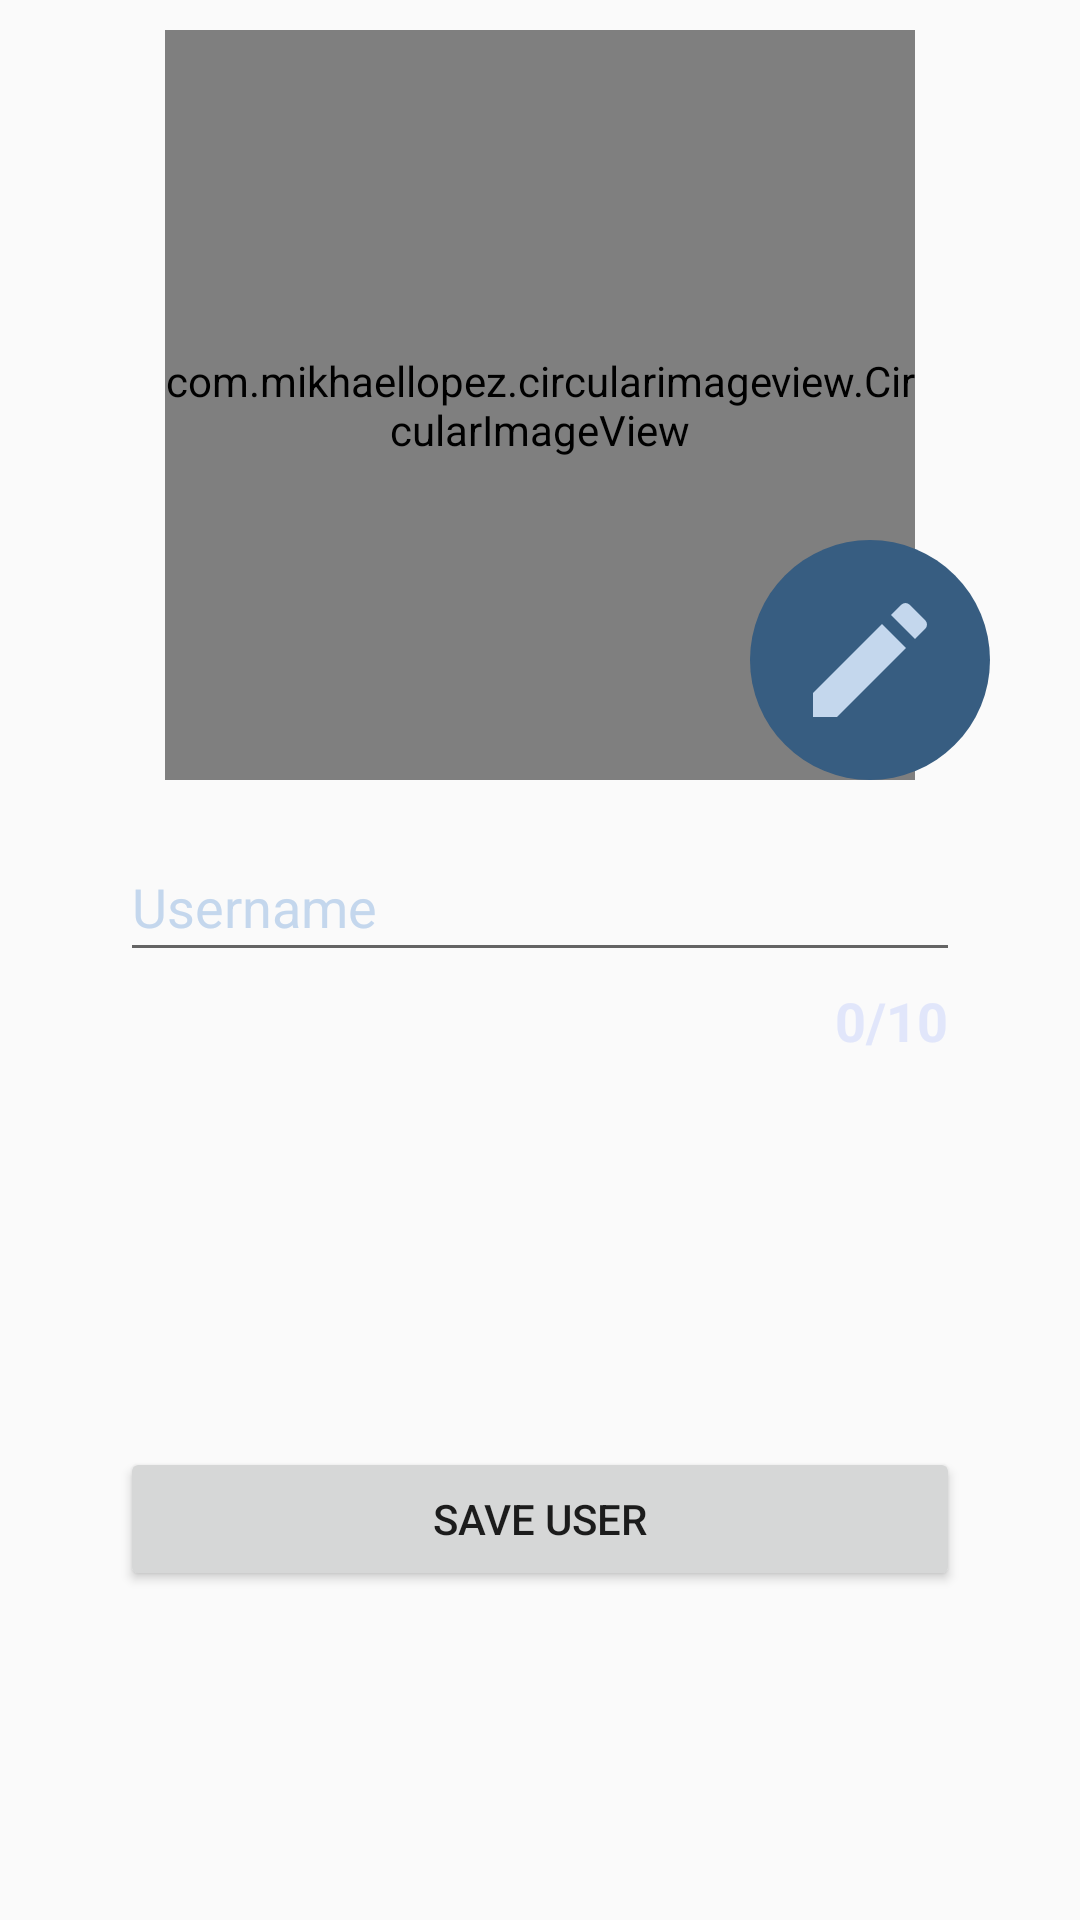

Icon click points for this 1080 x 1920 phone screenshot, format (x,y):
edit: (870,660)
